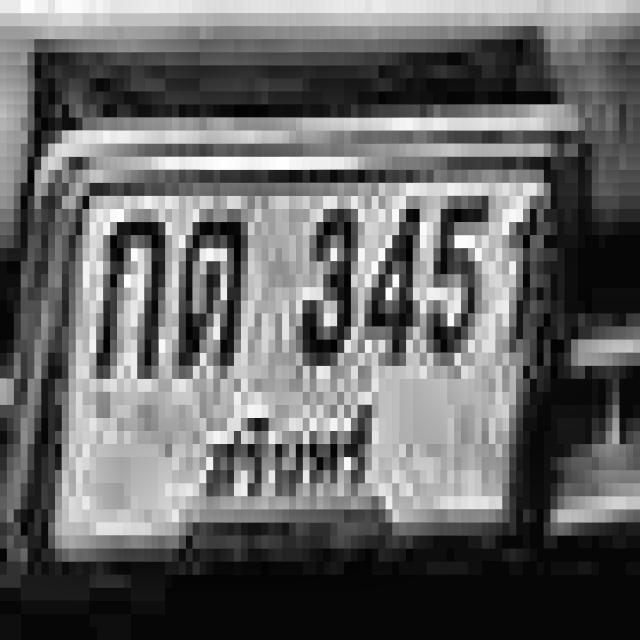license-plate: (35, 103, 575, 593)
